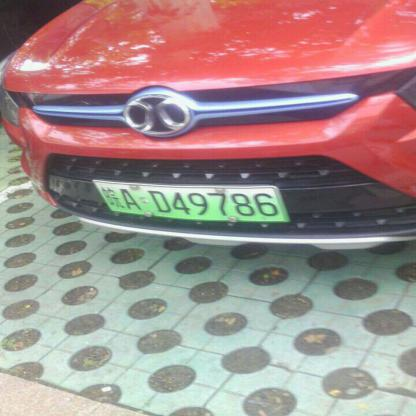lp: (94, 180, 287, 221)
